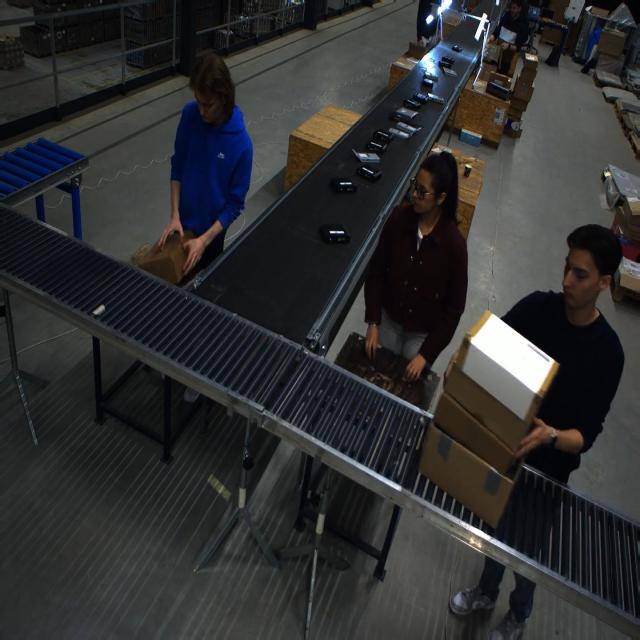box: (447, 312, 558, 450), (419, 418, 515, 530), (130, 233, 198, 290), (610, 258, 640, 305), (613, 194, 639, 241), (597, 28, 625, 56), (510, 78, 535, 105), (517, 53, 537, 85), (478, 61, 502, 82)
product: (319, 223, 349, 245), (330, 177, 357, 195), (356, 166, 381, 183), (387, 126, 414, 140), (352, 149, 379, 163), (369, 129, 392, 143), (394, 108, 418, 121), (366, 141, 387, 155), (396, 122, 418, 134), (403, 98, 422, 109), (426, 93, 444, 104), (412, 93, 429, 104), (439, 55, 454, 67), (422, 72, 439, 82), (441, 67, 458, 77), (422, 77, 434, 87), (451, 44, 462, 52)
